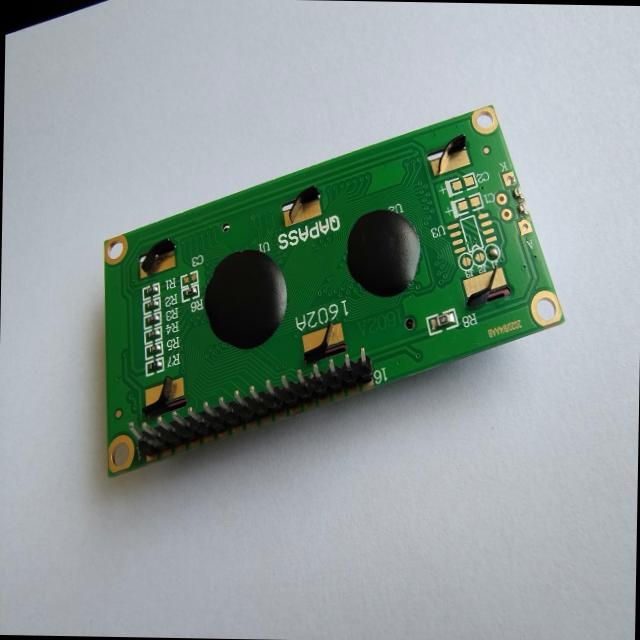lcd: (97, 96, 568, 486)
